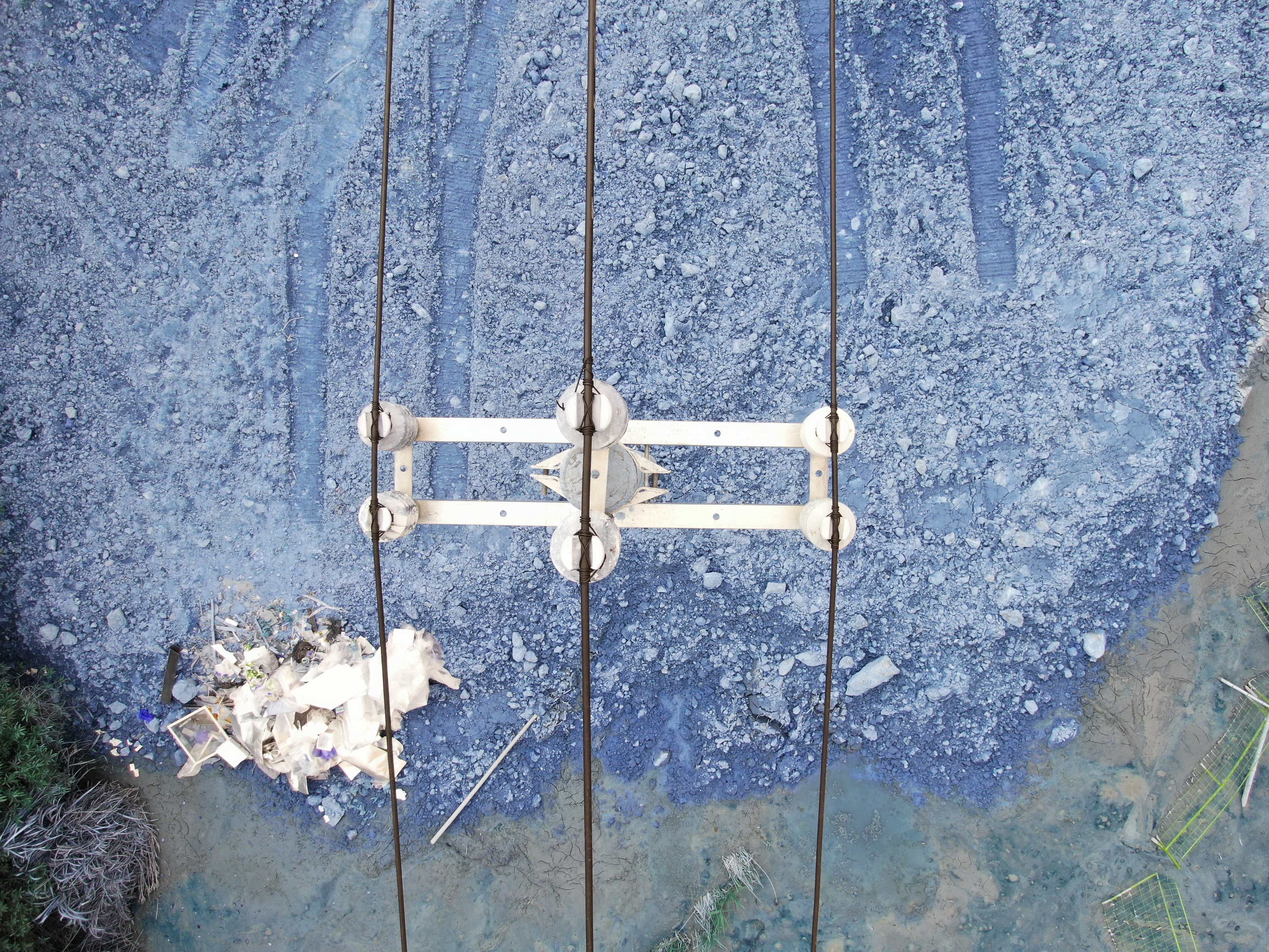severe_soiling_no_discharge_whole: (551, 374, 632, 453), (546, 510, 625, 586), (357, 488, 423, 549), (354, 399, 422, 457)
